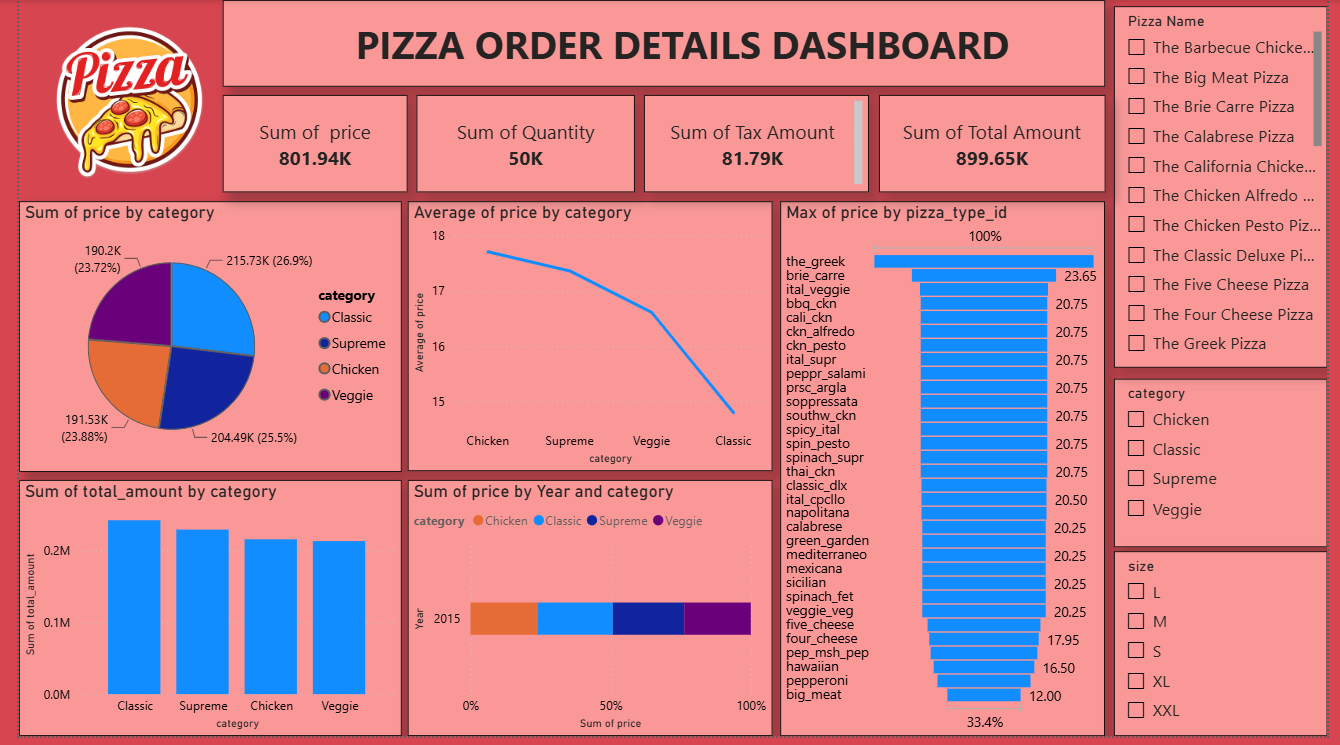

This screenshot's page, from the dashboard's own definition file:
{"tool":"powerbi","page":{"name":"Page 4","canvas":[1280,720],"ordinal":3},"visuals":[{"type":"textbox","box":[199.3,0,863.3,85],"z":0},{"type":"pieChart","fields":{"Category":["Pizza_Order_Details.category"],"Y":["Sum(Pizza_Order_Details.price)"]},"box":[0,196.9,374,265],"z":1000},{"type":"clusteredColumnChart","fields":{"Y":["Sum(Pizza_Order_Details.total_amount)"],"Category":["Pizza_Order_Details.category"]},"box":[0,469.6,374,250.7],"z":2000},{"type":"lineChart","fields":{"Y":["Avg(Pizza_Order_Details.price)"],"Category":["Pizza_Order_Details.category"]},"box":[380.3,196.9,357,264],"z":3000},{"type":"hundredPercentStackedBarChart","fields":{"Category":["Pizza_Order_Details.date.Variation.Date Hierarchy.Year","Pizza_Order_Details.date.Variation.Date Hierarchy.Quarter","Pizza_Order_Details.date.Variation.Date Hierarchy.Month","Pizza_Order_Details.date.Variation.Date Hierarchy.Day"],"Y":["Sum(Pizza_Order_Details.price)"],"Series":["Pizza_Order_Details.category"]},"box":[380.3,469.6,357,250.7],"z":4000},{"type":"funnel","fields":{"Y":["Max(Pizza_Order_Details.price)"],"Category":["Pizza_Order_Details.pizza_type_id"]},"box":[744.7,196.9,317.9,523.4],"z":5000},{"type":"slicer","fields":{"Values":["Pizza_Order_Details.category"]},"box":[1071.2,370.5,209.1,165.1],"z":6000},{"type":"slicer","fields":{"Values":["Pizza_Order_Details.size"]},"box":[1071.2,539.3,209.1,181],"z":7000},{"type":"slicer","fields":{"Values":["Pizza_Order_Details.name"]},"box":[1071.2,6.1,209.1,353.4],"z":8000},{"type":"textbox","box":[199.3,92.9,181,95],"z":9000},{"type":"textbox","box":[388.9,92.9,214,95],"z":10000},{"type":"textbox","box":[611.4,92.9,220.1,95],"z":11000},{"type":"textbox","box":[841.3,92.9,221.3,95],"z":12000},{"type":"image","box":[0,0,216.4,196.9],"z":13000}]}

Visuals, with their boxes in screenshot pixels (x1, y1, x2, y2), scaled from the page's 1280x720 canvas onto the 1340x745 screenshot:
textbox: pyautogui.locateOnScreen(209, 0, 1112, 88)
pieChart - Pizza_Order_Details.category x Sum(Pizza_Order_Details.price): pyautogui.locateOnScreen(0, 204, 392, 478)
clusteredColumnChart - Sum(Pizza_Order_Details.total_amount) x Pizza_Order_Details.category: pyautogui.locateOnScreen(0, 486, 392, 744)
lineChart - Avg(Pizza_Order_Details.price) x Pizza_Order_Details.category: pyautogui.locateOnScreen(398, 204, 772, 477)
hundredPercentStackedBarChart - Pizza_Order_Details.date.Variation.Date Hierarchy.Year x Pizza_Order_Details.date.Variation.Date Hierarchy.Quarter: pyautogui.locateOnScreen(398, 486, 772, 744)
funnel - Max(Pizza_Order_Details.price) x Pizza_Order_Details.pizza_type_id: pyautogui.locateOnScreen(780, 204, 1112, 744)
slicer - Pizza_Order_Details.category: pyautogui.locateOnScreen(1121, 383, 1339, 554)
slicer - Pizza_Order_Details.size: pyautogui.locateOnScreen(1121, 558, 1339, 744)
slicer - Pizza_Order_Details.name: pyautogui.locateOnScreen(1121, 6, 1339, 372)
textbox: pyautogui.locateOnScreen(209, 96, 398, 194)
textbox: pyautogui.locateOnScreen(407, 96, 631, 194)
textbox: pyautogui.locateOnScreen(640, 96, 870, 194)
textbox: pyautogui.locateOnScreen(881, 96, 1112, 194)
image: pyautogui.locateOnScreen(0, 0, 227, 204)
